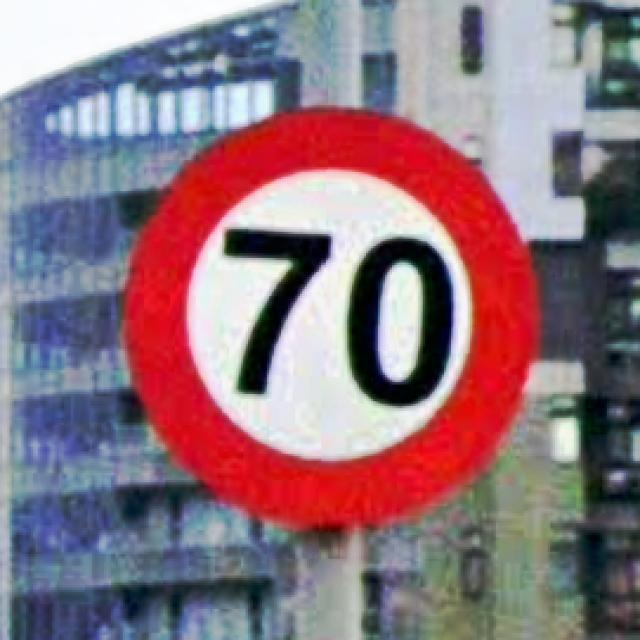max70: (116, 100, 543, 532)
